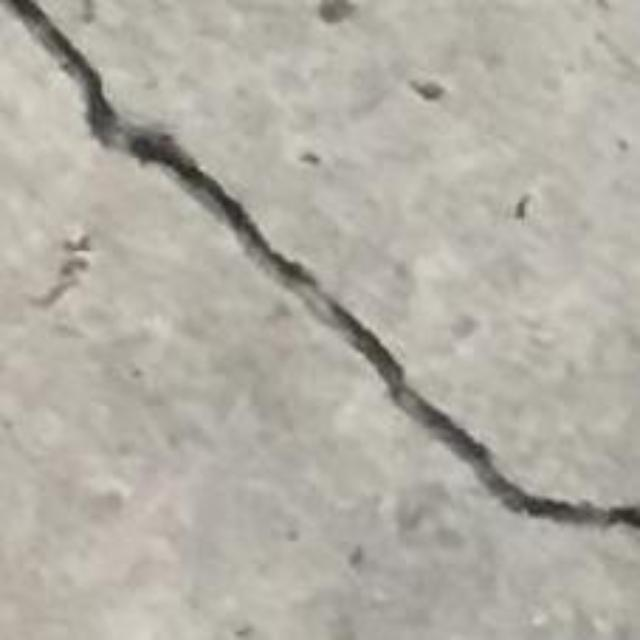crack: (0, 0, 639, 530)
